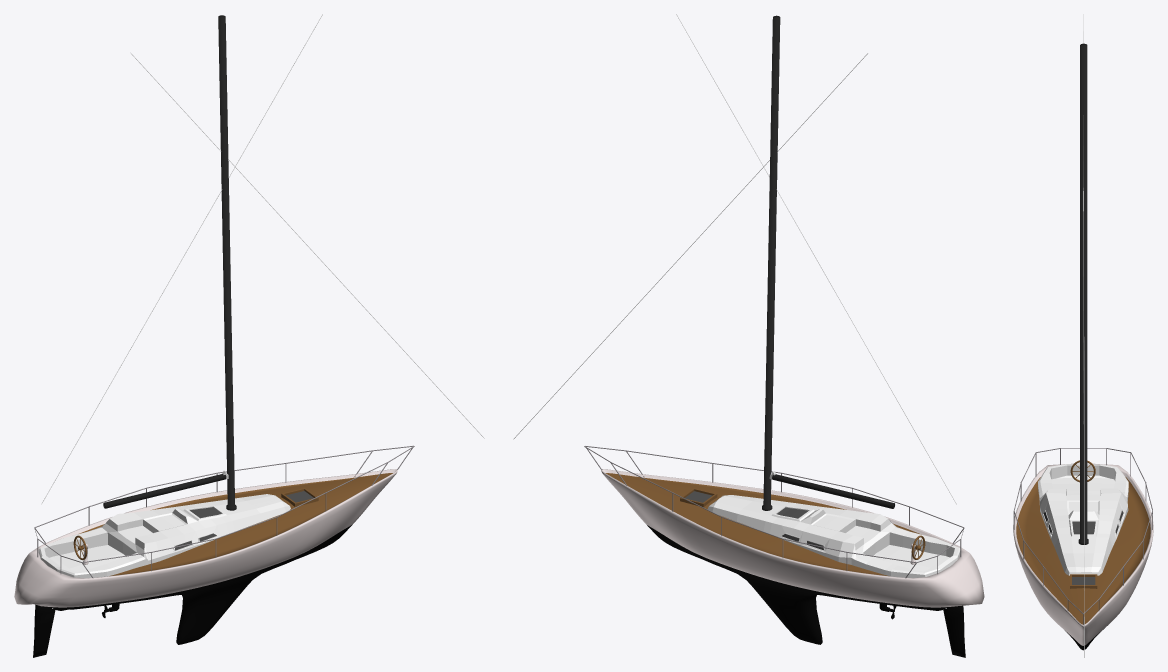
Rendered from Boat_highpoly.fbx.
3 renders of one model, left to right at view 1: azimuth 30°, elevation 25°; view 2: azimuth 150°, elevation 25°; view 3: azimuth 270°, elevation 25°, orthographic.
Parts seen in each view (by area): view 1: body, living area, mast, back finn, bum; view 2: body, living area, mast, back finn, bum; view 3: body, living area, mast, Cylinder.017, top window, Cylinder.015, Cylinder.014.
Boxes of the visible parts, left/top/right/bottom form: body: left=14, top=469, right=397, bottom=644; living area: left=38, top=494, right=290, bottom=578; mast: left=218, top=15, right=236, bottom=510; back finn: left=33, top=604, right=55, bottom=657; bum: left=103, top=474, right=226, bottom=508; body: left=601, top=469, right=984, bottom=644; living area: left=707, top=495, right=960, bottom=577; mast: left=762, top=15, right=780, bottom=510; back finn: left=943, top=605, right=965, bottom=657; bum: left=772, top=474, right=894, bottom=508; body: left=1013, top=463, right=1153, bottom=650; living area: left=1038, top=464, right=1128, bottom=575; mast: left=1078, top=43, right=1088, bottom=544; Cylinder.017: left=1083, top=14, right=1084, bottom=657; top window: left=1070, top=574, right=1097, bottom=588; Cylinder.015: left=1083, top=448, right=1152, bottom=614; Cylinder.014: left=1014, top=448, right=1083, bottom=613.
Size of the model in its own units: 1507 by 1899 by 393.
